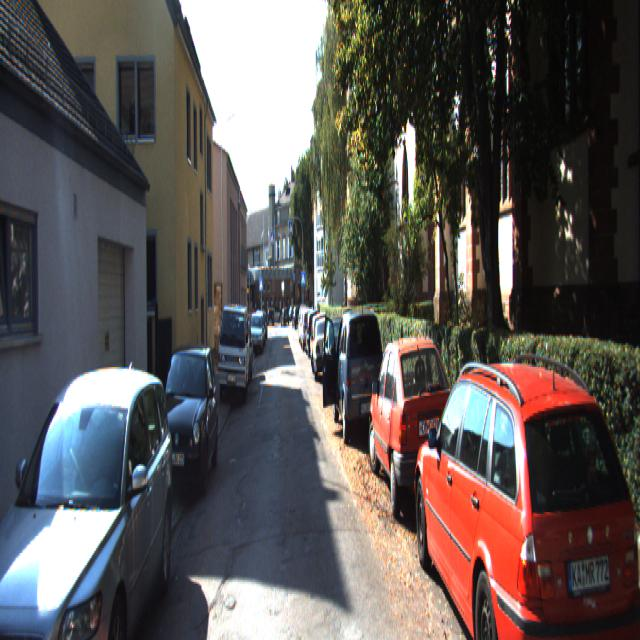Car: (406, 345, 640, 638), (0, 358, 173, 638), (364, 326, 460, 526), (149, 341, 219, 514), (329, 304, 386, 442), (217, 300, 249, 404), (310, 316, 335, 380), (249, 311, 263, 353)
